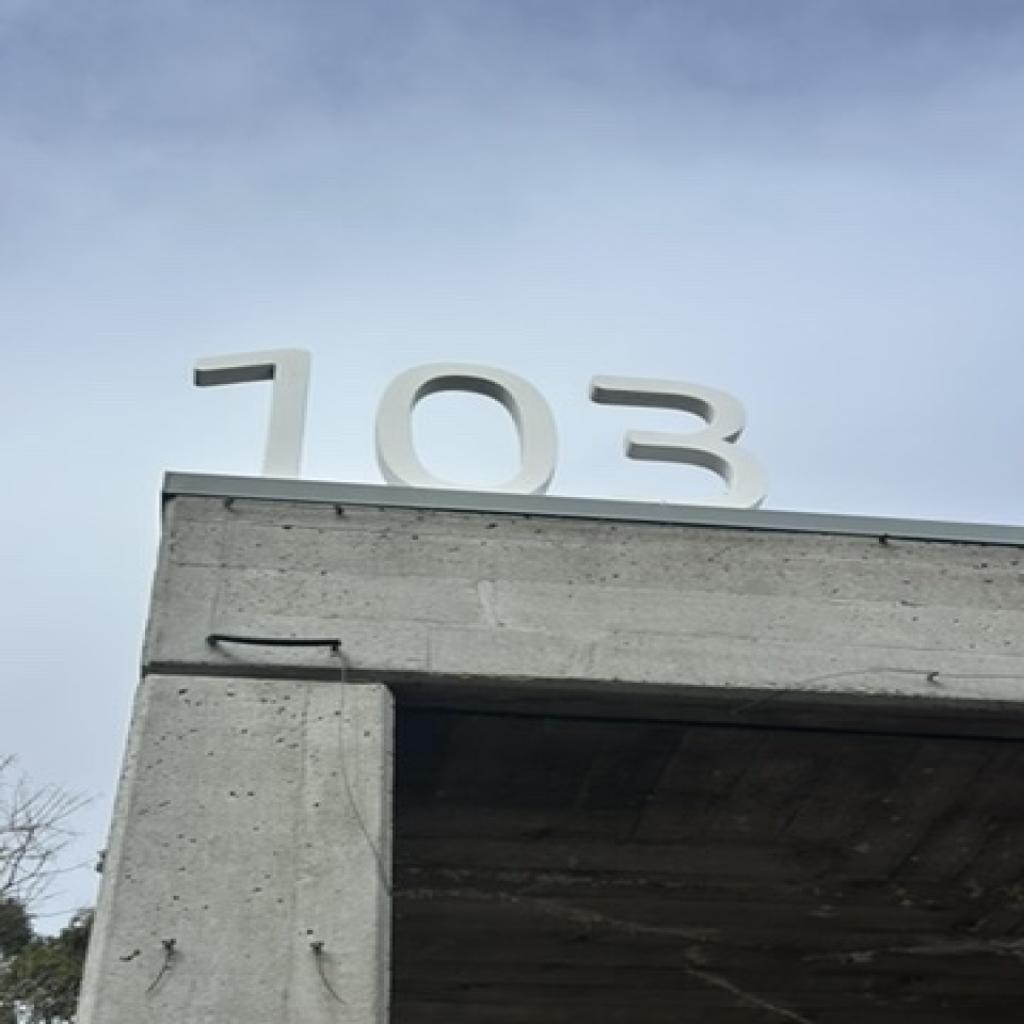BuildingCodes: (182, 332, 778, 518)
